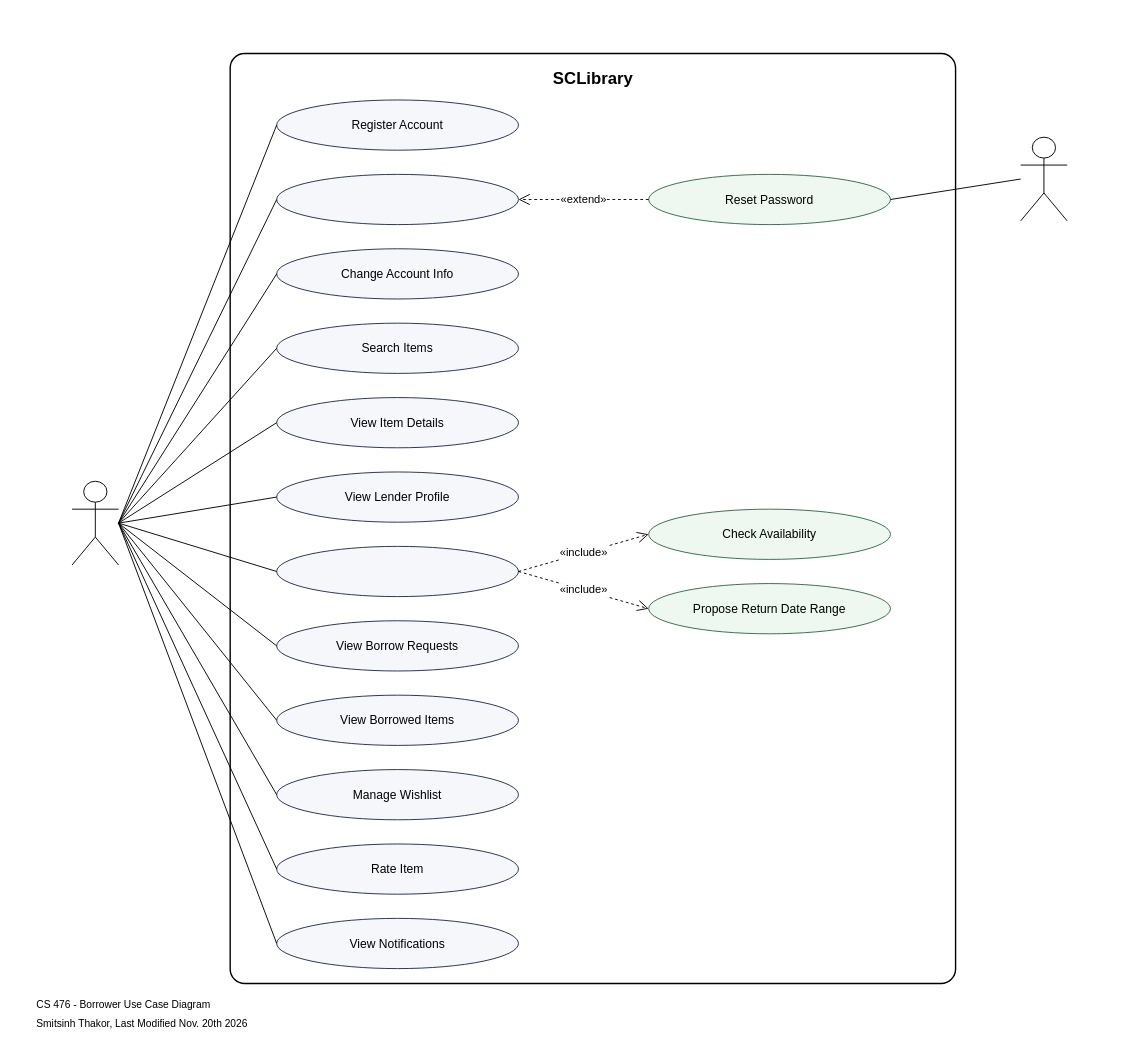
Image size: 1129x1055. Some labels were removed from this diagram. Here are the shapes that lost their labels. From the top down, the box of each, then its label:
(1020, 136, 1067, 221): Email Service
(276, 173, 518, 225): Login
(71, 480, 119, 565): Borrower
(276, 545, 518, 597): Request Item
